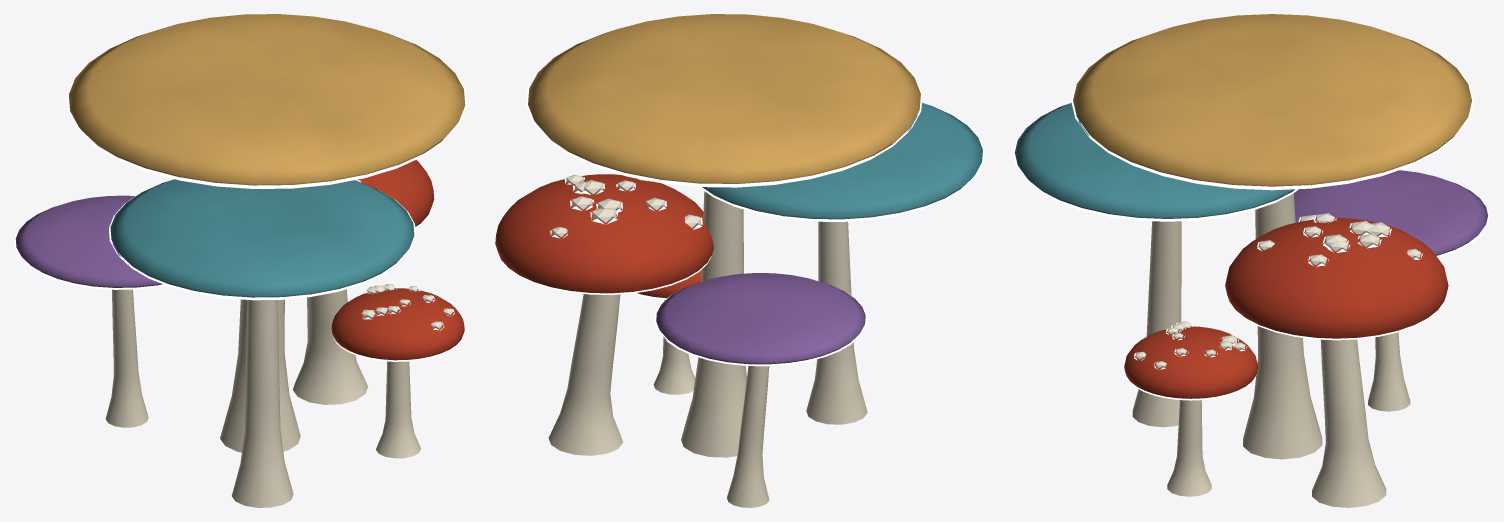
The model's file is houba_trs.glb.
3 renders of one model, left to right at view 1: azimuth 30°, elevation 25°; view 2: azimuth 150°, elevation 25°; view 3: azimuth 270°, elevation 25°, orthographic.
Parts seen in each view (by area): view 1: houba_tren, noc; view 2: houba_tren, noc; view 3: houba_tren, noc.
Part boxes in pixels (<box>): houba_tren: <box>15,14,465,507</box>; noc: <box>14,45,466,361</box>; houba_tren: <box>495,14,982,507</box>; noc: <box>497,46,984,366</box>; houba_tren: <box>1014,14,1488,507</box>; noc: <box>1013,49,1489,400</box>.
Bounding box in the file's own units: 3.26 × 3.04 × 3.57.
Materials: 2 (1 with a texture image).
